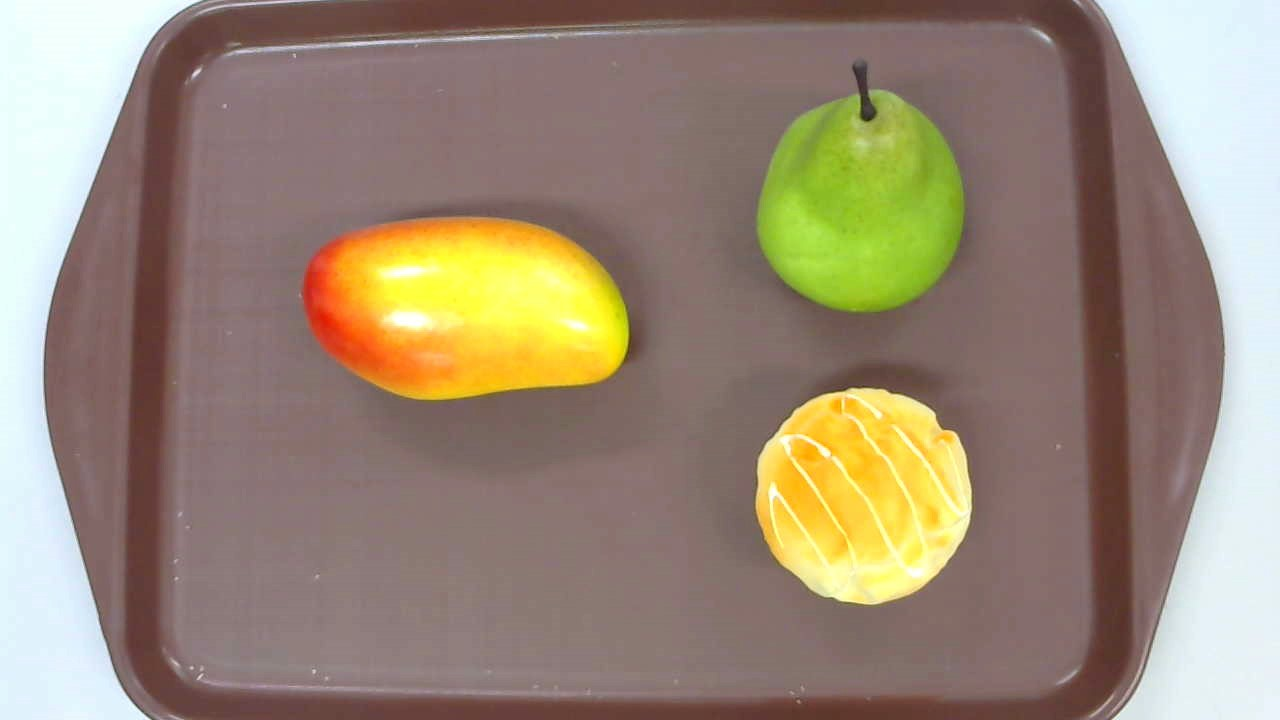cupcake: (754, 387, 971, 605)
green pear: (754, 60, 964, 314)
red mango: (302, 216, 629, 401)
